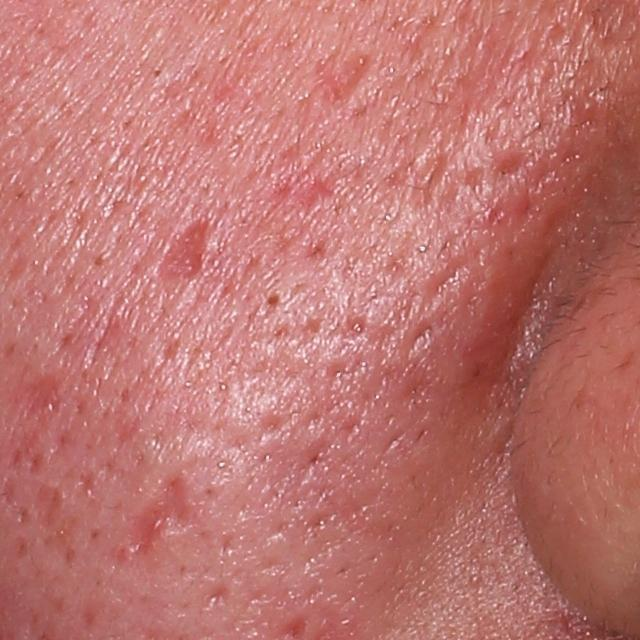atrophic_scar: (296, 47, 370, 141), (132, 472, 200, 568), (273, 152, 339, 219), (154, 213, 215, 283), (29, 485, 78, 570), (4, 367, 68, 425), (426, 251, 471, 303), (495, 148, 526, 186), (199, 584, 227, 608)
comedo: (265, 289, 284, 313)
